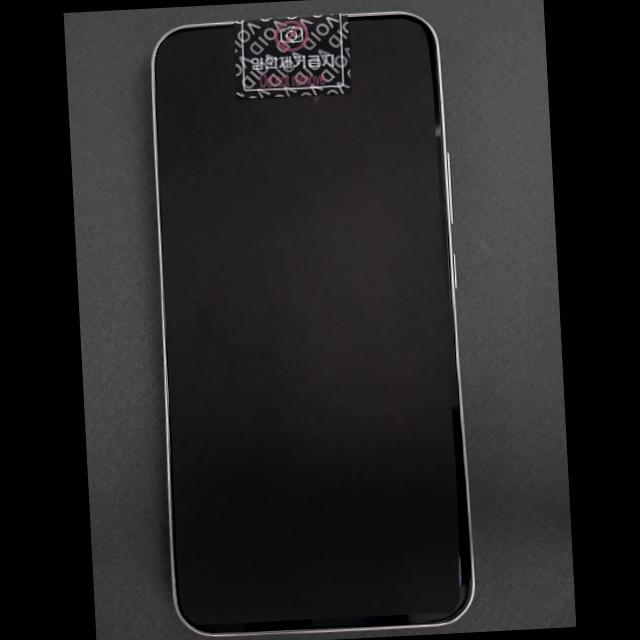phone: (151, 10, 477, 637)
sticker: (234, 13, 352, 100)
